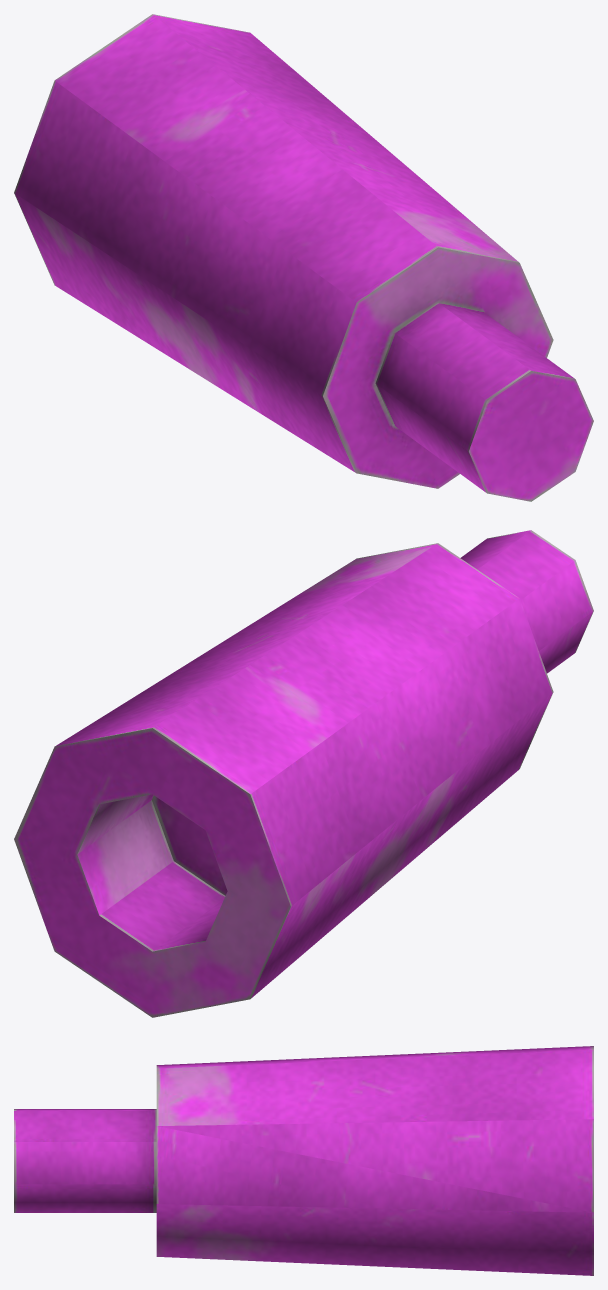
File: silencer-small.glb
3 renders of one model, top to bottom at view 1: azimuth 30°, elevation 25°; view 2: azimuth 150°, elevation 25°; view 3: azimuth 270°, elevation 25°, orthographic. The views are drawn at different scales.
Parts seen in each view (by area): view 1: silencer-small; view 2: silencer-small; view 3: silencer-small.
Part boxes in pixels (left/top/right/bottom): silencer-small: left=14, top=14, right=593, bottom=501; silencer-small: left=14, top=530, right=593, bottom=1017; silencer-small: left=14, top=1046, right=593, bottom=1275.
Bounding box in the file's own units: 0.103 × 0.103 × 0.244.
Materials: 1 (1 with a texture image).
